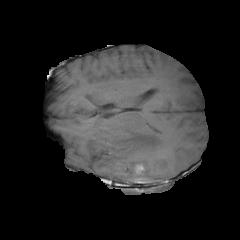glioma: (95, 117, 185, 178)
